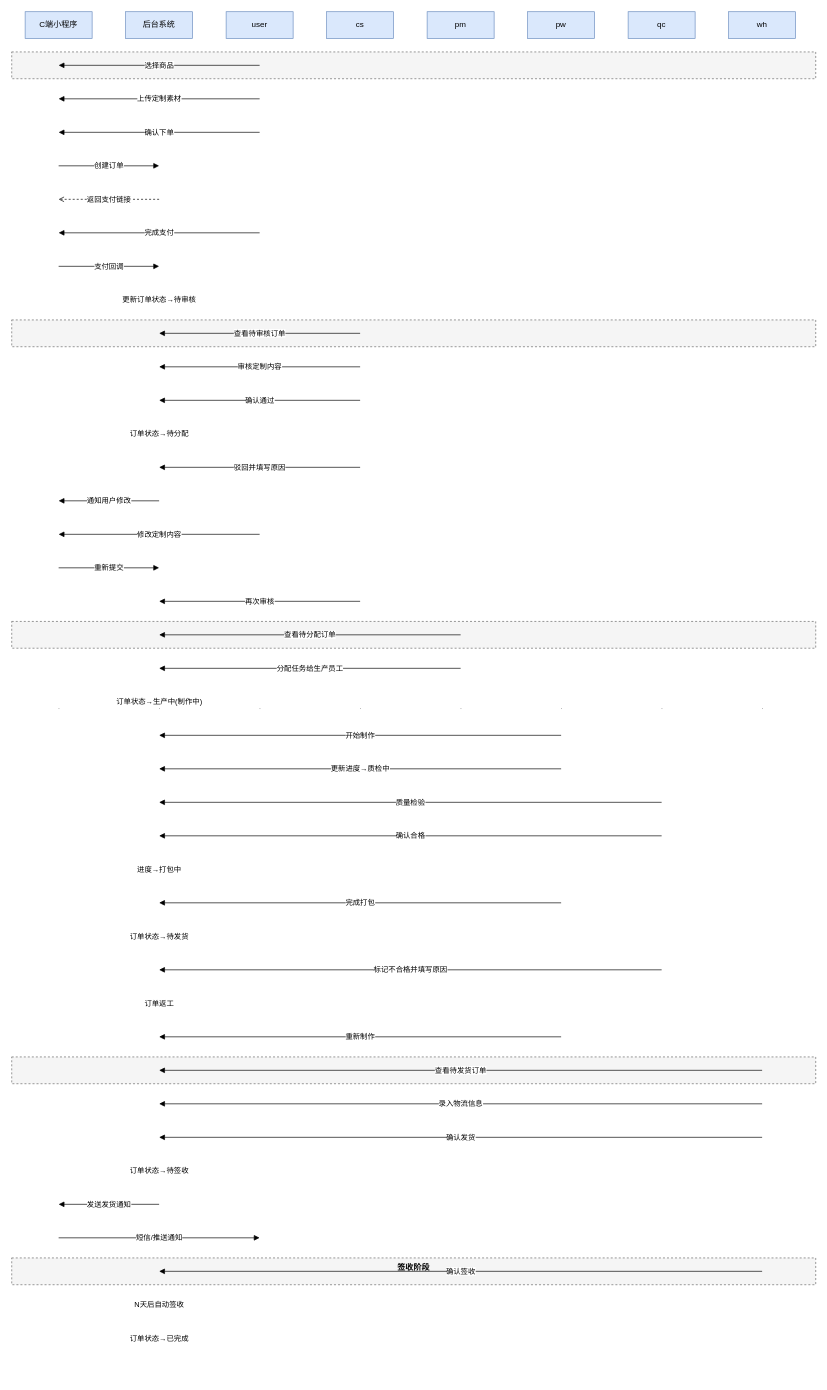
This 827x1390 diagram has some shape labels left out. The shapes that lost their labels are listed below. From the top down, each one's box as (x1, y1, x2, y2) in pixels, then its label:
(11, 51, 816, 79): 下单阶段
(11, 319, 816, 347): 审核阶段
(11, 621, 816, 648): 生产阶段
(11, 1056, 816, 1084): 发货阶段
